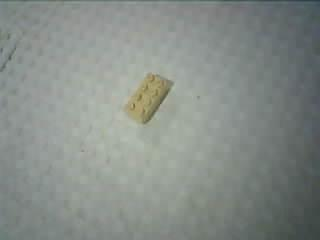lego: (122, 72, 171, 124)
